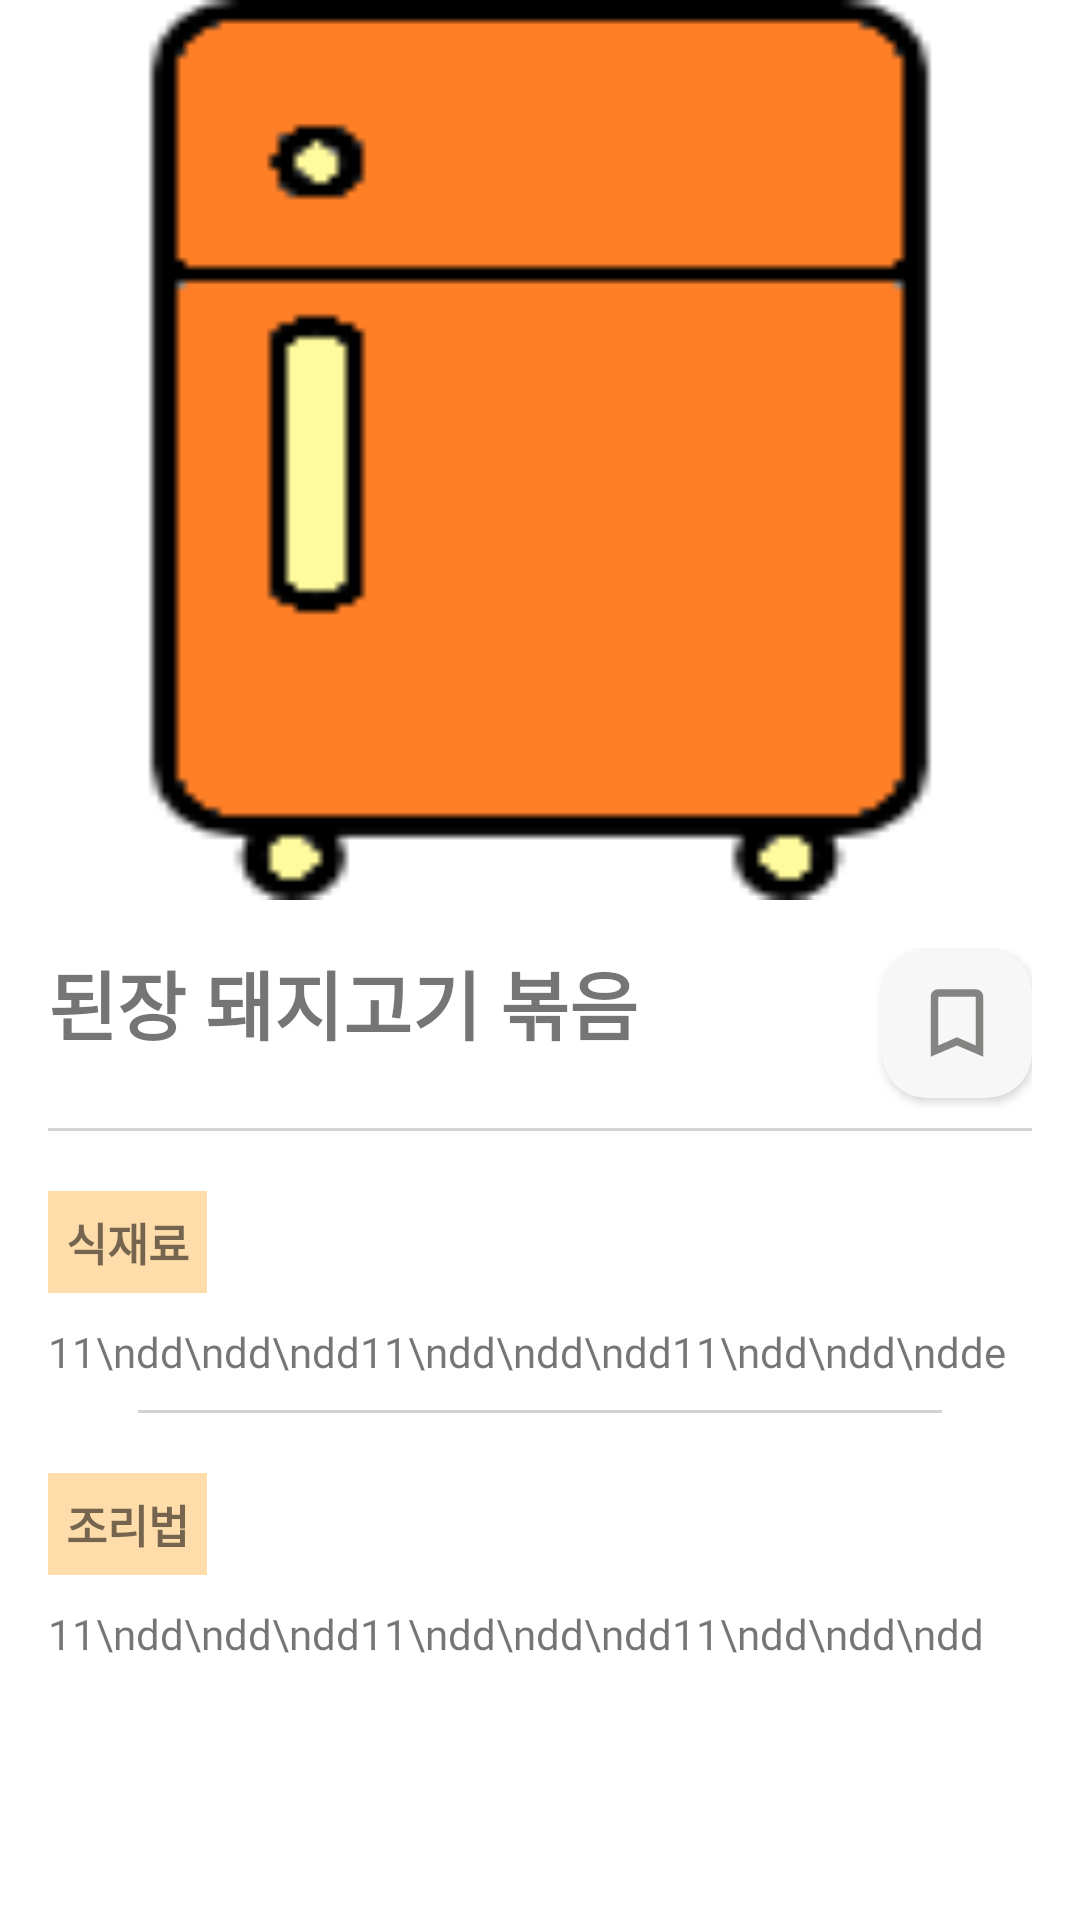

Point at icon controls on the screen. Image size 1080×1920, points as (x=x, y=y).
bookmark: (x=971, y=1043)
